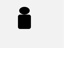human: (16, 4, 32, 31)
